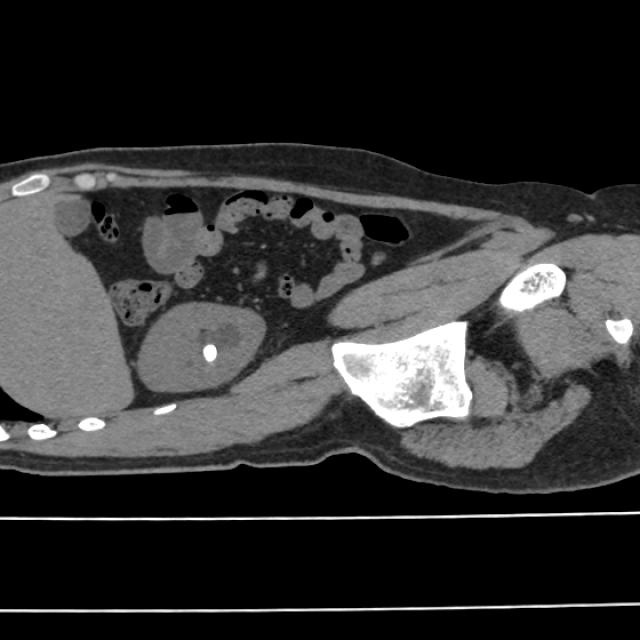kidney: (156, 318, 252, 382)
stone: (204, 346, 216, 360)
